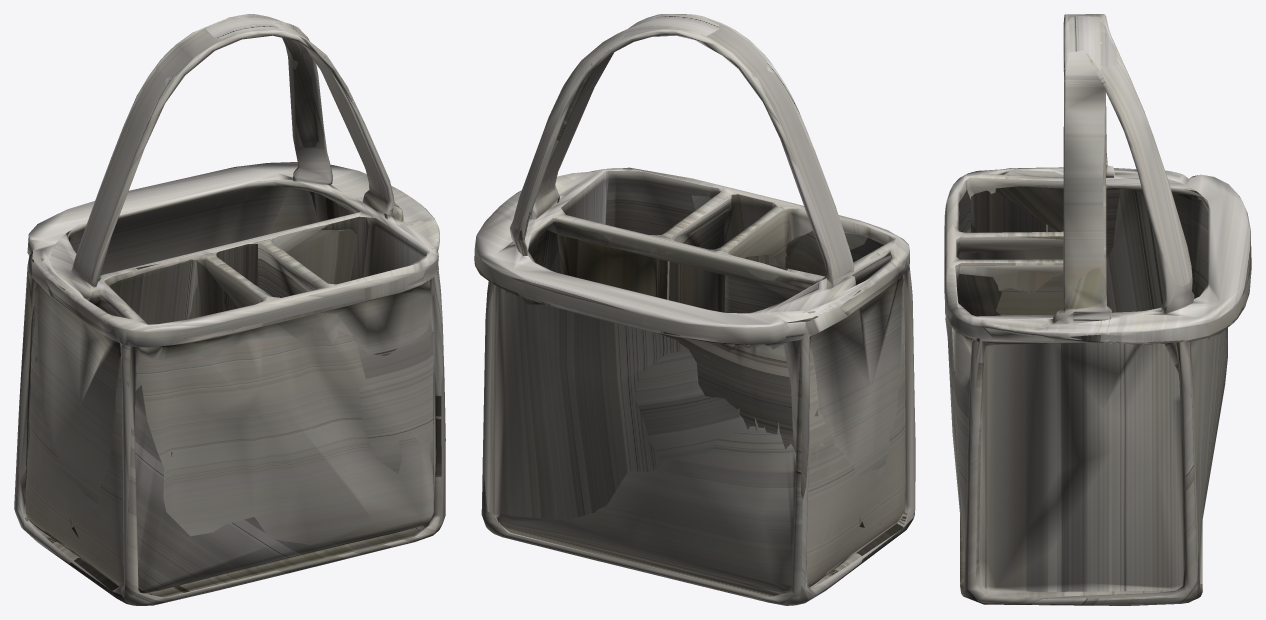
File: caddy-lite.glb
3 views of the same model, side by side, from view 1: azimuth 30°, elevation 25°; view 2: azimuth 150°, elevation 25°; view 3: azimuth 270°, elevation 25° (orthographic).
Visible parts, largest first — view 1: node_0; view 2: node_0; view 3: node_0.
Part boxes in pixels (x1,y1,x2,y2): node_0: (14,14,445,605); node_0: (474,14,915,605); node_0: (944,14,1251,605).
Size of the model in its own units: 0.6849 by 0.9372 by 0.5144.
1 material, 1 textured.
